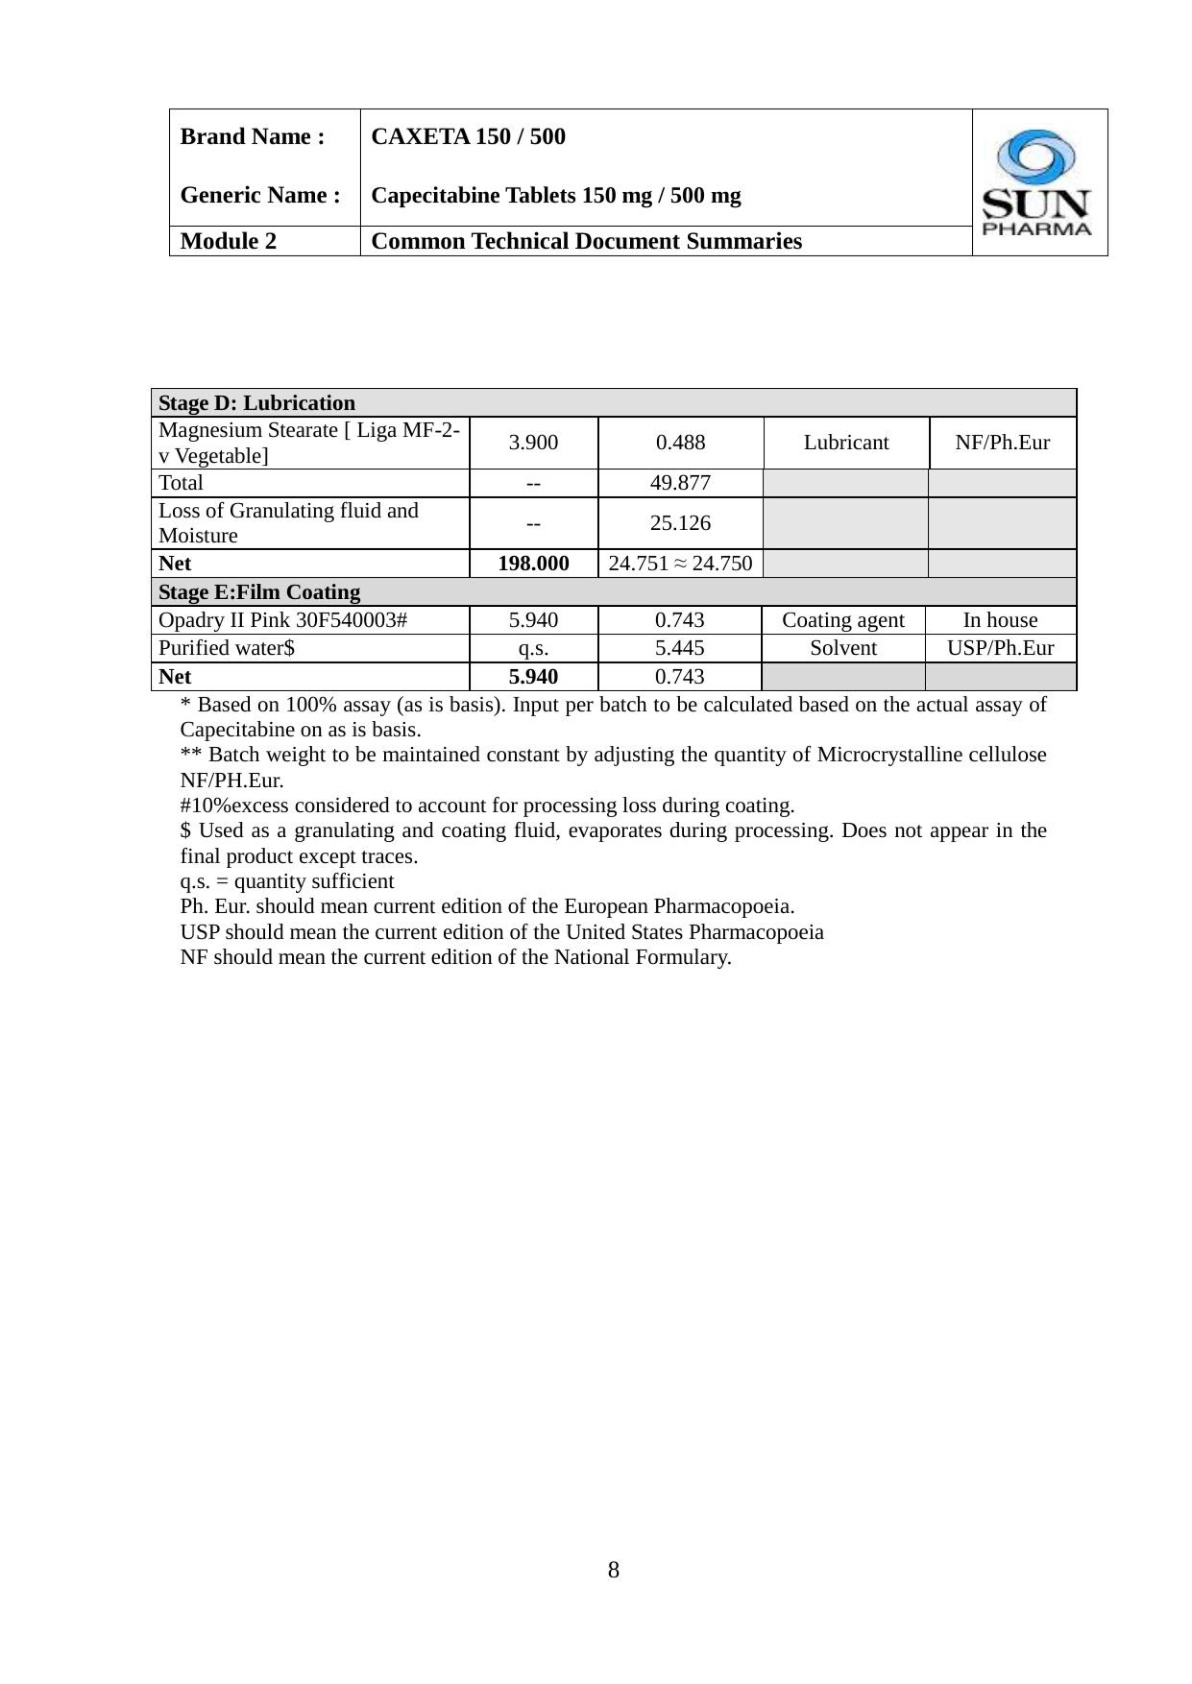merged_cells: (150, 386, 1078, 692), (166, 106, 1109, 258)
